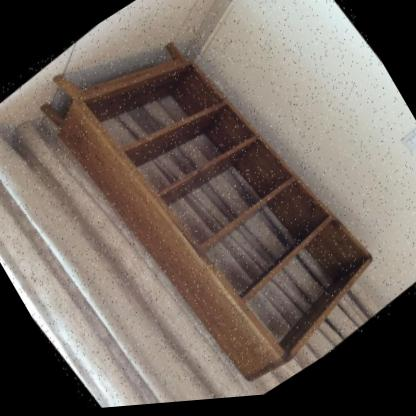Shelf: (11, 0, 403, 415)
